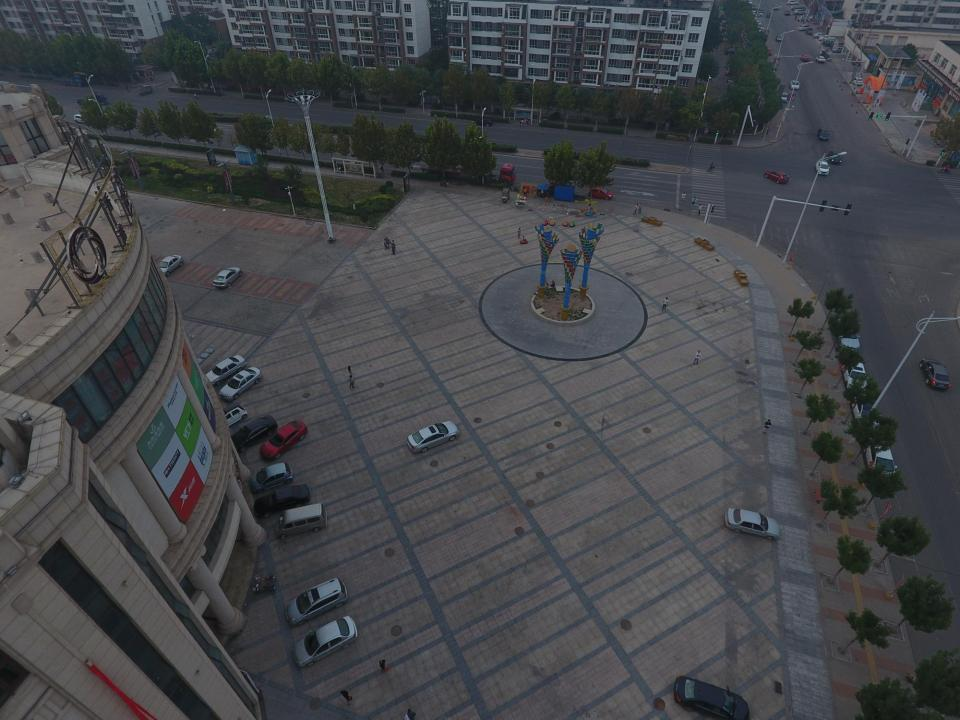car: (673, 675, 750, 720), (292, 616, 358, 668), (285, 577, 349, 626), (225, 415, 278, 454), (253, 483, 311, 518), (259, 420, 308, 461), (725, 507, 781, 540), (862, 437, 898, 488), (406, 420, 460, 454), (202, 354, 247, 388), (219, 367, 263, 401), (850, 388, 882, 434), (250, 462, 294, 493), (840, 357, 869, 394), (919, 358, 951, 391), (834, 313, 860, 352), (216, 402, 247, 430), (155, 255, 184, 278), (213, 266, 242, 288), (588, 186, 613, 200), (764, 170, 789, 184), (827, 150, 843, 165), (816, 160, 830, 176), (73, 114, 95, 124), (473, 117, 494, 126), (725, 69, 748, 77), (816, 128, 830, 141), (548, 179, 568, 188), (726, 77, 750, 84), (728, 80, 746, 88), (725, 48, 743, 56), (824, 40, 842, 47), (830, 42, 847, 49), (851, 77, 864, 86), (832, 46, 848, 53), (789, 80, 800, 90), (822, 39, 840, 45), (818, 36, 836, 42), (780, 92, 789, 103), (813, 32, 828, 38), (797, 16, 812, 22), (792, 6, 806, 12), (793, 9, 807, 15), (852, 58, 862, 66), (798, 25, 810, 31), (816, 56, 826, 63), (800, 15, 813, 20), (801, 14, 814, 19), (776, 34, 784, 42), (800, 55, 809, 62), (786, 0, 798, 5), (765, 48, 773, 55), (752, 11, 763, 16), (770, 63, 777, 70), (756, 20, 762, 26), (759, 28, 765, 34), (785, 10, 791, 16), (772, 5, 779, 10), (751, 4, 756, 10), (748, 0, 753, 5)
truck: (420, 160, 516, 185), (53, 72, 90, 88), (77, 93, 109, 105), (136, 85, 153, 95)
van: (275, 503, 327, 539), (170, 70, 183, 81)
